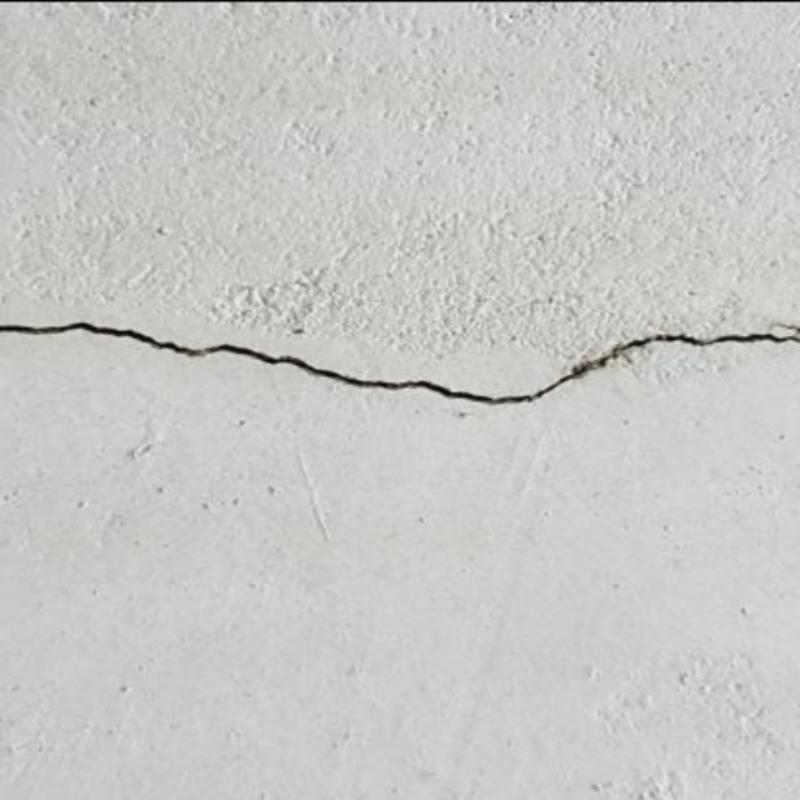pothole: (0, 317, 800, 404)
